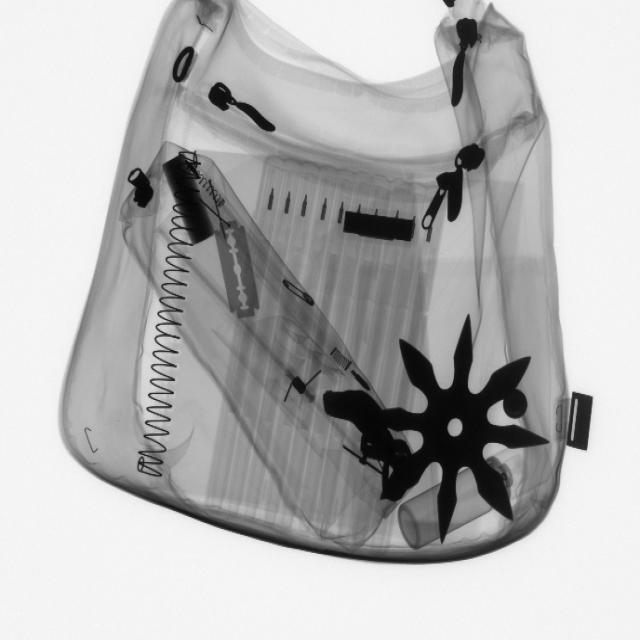BLADE: (215, 217, 266, 328)
SHURIKEN: (358, 313, 550, 545)
